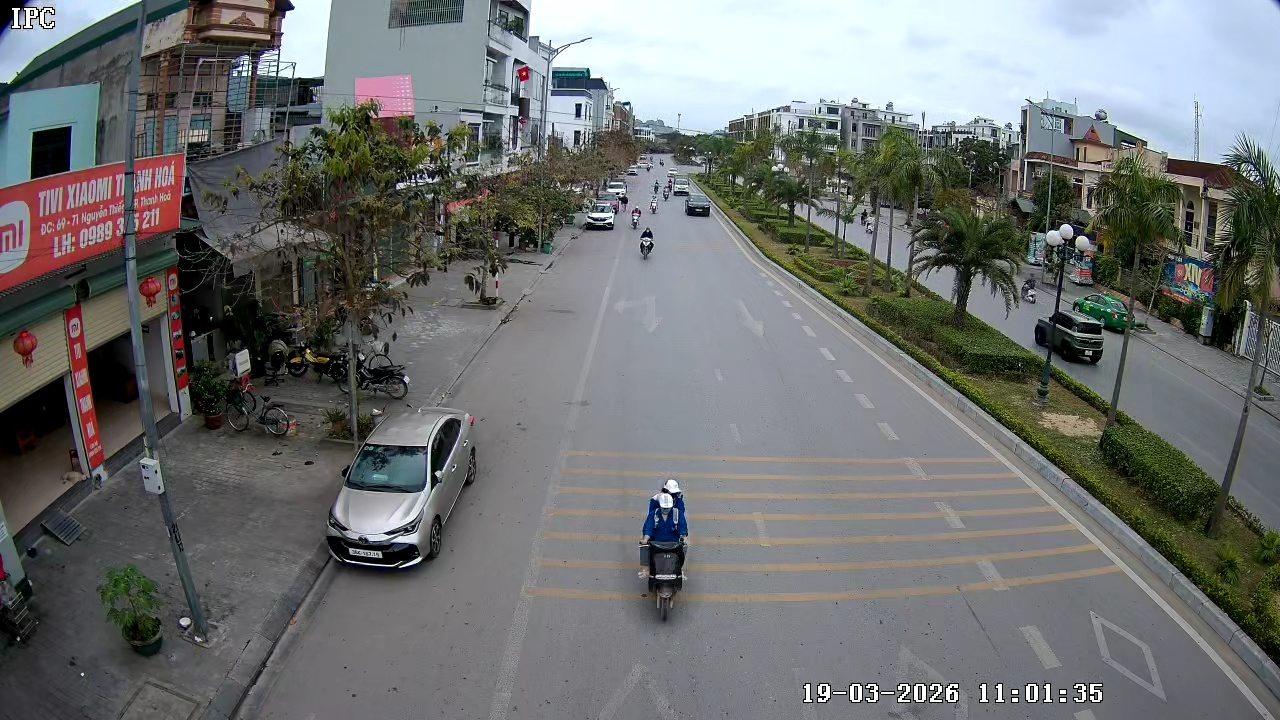car: (325, 405, 479, 572), (1033, 289, 1111, 373), (582, 204, 618, 232), (683, 194, 713, 217)
motorbike: (634, 476, 694, 622), (355, 338, 411, 400), (638, 223, 655, 259), (629, 202, 641, 231)
